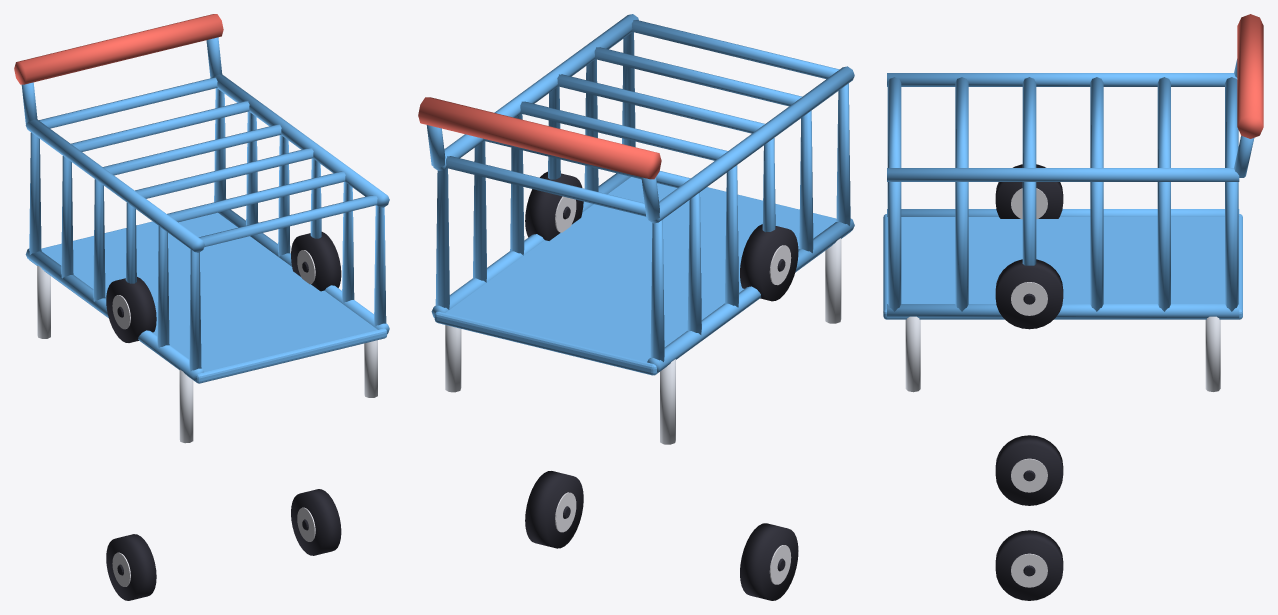
The model's file is Car_Cart.fbx.
3 views of the same model, side by side, from view 1: azimuth 30°, elevation 25°; view 2: azimuth 150°, elevation 25°; view 3: azimuth 270°, elevation 25° (orthographic). The views are drawn at different scales.
Parts seen in each view (by area): view 1: Car_Cart, Wheel_FL, Wheel_FR, Wheel_RL, Wheel_RR; view 2: Car_Cart, Wheel_FR, Wheel_FL, Wheel_RL, Wheel_RR; view 3: Car_Cart, Wheel_FL, Wheel_FR, Wheel_RR, Wheel_RL.
Part boxes in pixels (bbox=[...]): Car_Cart: bbox=[14, 14, 389, 443]; Wheel_FL: bbox=[106, 534, 156, 600]; Wheel_FR: bbox=[291, 489, 341, 555]; Wheel_RL: bbox=[106, 277, 156, 342]; Wheel_RR: bbox=[291, 232, 341, 291]; Car_Cart: bbox=[418, 14, 854, 444]; Wheel_FR: bbox=[525, 471, 583, 548]; Wheel_FL: bbox=[740, 523, 798, 600]; Wheel_RL: bbox=[740, 224, 798, 301]; Wheel_RR: bbox=[525, 171, 583, 240]; Car_Cart: bbox=[883, 14, 1263, 392]; Wheel_FL: bbox=[995, 435, 1063, 505]; Wheel_FR: bbox=[995, 530, 1063, 600]; Wheel_RR: bbox=[995, 259, 1063, 329]; Wheel_RL: bbox=[995, 164, 1063, 219].
Size of the model in its own units: 0.6756 by 1.43 by 1.02.
